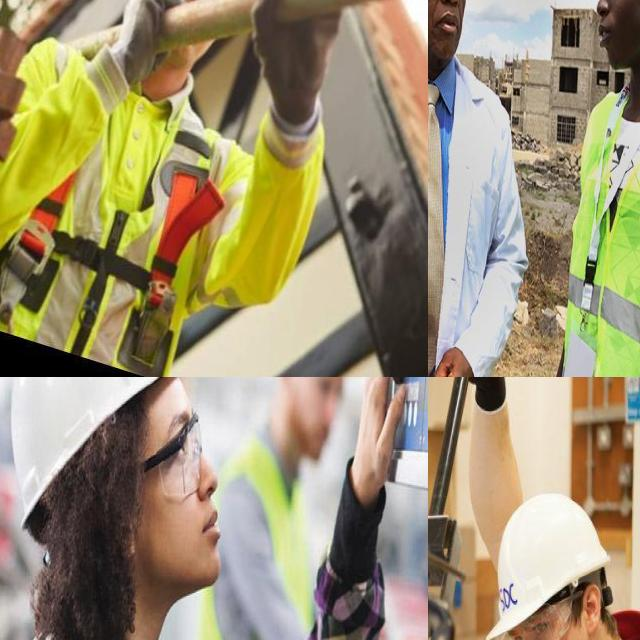Harness: (11, 131, 223, 377)
No_Ear-Protection: (579, 576, 602, 639)
face_nomask: (133, 391, 230, 607), (428, 0, 472, 65), (595, 0, 640, 57), (505, 618, 586, 640)
glasses: (152, 403, 206, 510), (492, 600, 570, 640)
hand_noglove: (360, 377, 415, 515), (428, 351, 475, 377)
head_helmet: (481, 490, 613, 634), (7, 377, 188, 453)
person: (0, 377, 231, 640), (222, 377, 368, 640), (428, 0, 486, 377), (503, 497, 640, 640), (591, 0, 640, 377)
vest: (570, 97, 640, 377), (225, 426, 315, 640)
